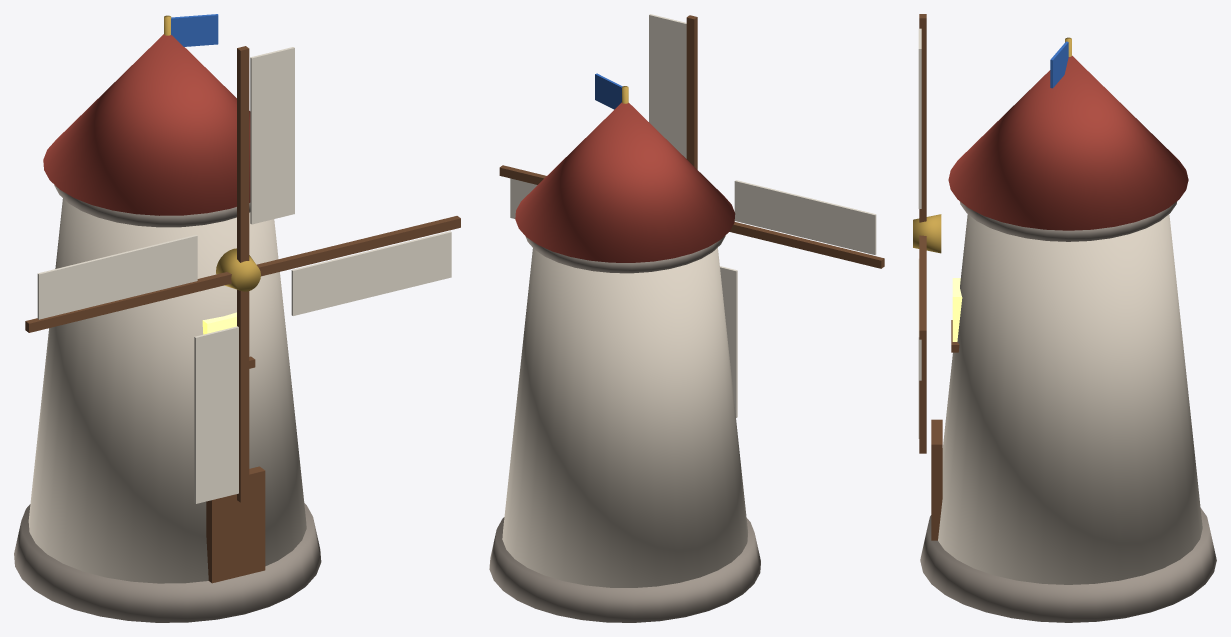
File: windmill.glb
3 views of the same model, side by side, from view 1: azimuth 30°, elevation 25°; view 2: azimuth 150°, elevation 25°; view 3: azimuth 270°, elevation 25° (orthographic). The views are drawn at different scales.
Parts seen in each view (by area): view 1: tower, roof, base, sail3, sail1, sail0, sail2, door, arm0, arm1, arm3, arm2 (+3 smaller); view 2: tower, roof, base, sail3, sail0, rim, arm3, arm0, sail2, flag, sail1; view 3: tower, roof, base, rim, door, arm0, hub-cap, arm1, arm2, sail0, flag, window.
Part boxes in pixels (x1,y1,x2,y2): tower: [28, 198, 306, 583]; roof: [43, 34, 250, 215]; base: [14, 503, 321, 622]; sail3: [37, 235, 197, 319]; sail1: [291, 231, 451, 315]; sail0: [250, 47, 294, 224]; sail2: [194, 326, 238, 503]; door: [206, 466, 265, 583]; arm0: [237, 46, 249, 262]; arm1: [257, 216, 460, 276]; arm3: [25, 272, 231, 332]; arm2: [237, 289, 249, 502]; tower: [502, 247, 747, 587]; roof: [515, 102, 735, 262]; base: [489, 517, 760, 622]; sail3: [734, 180, 876, 254]; sail0: [649, 14, 686, 158]; rim: [525, 235, 725, 273]; arm3: [729, 222, 884, 268]; arm0: [686, 15, 697, 169]; sail2: [720, 266, 737, 417]; flag: [595, 73, 622, 109]; sail1: [510, 178, 537, 218]; tower: [938, 214, 1202, 584]; roof: [948, 55, 1188, 230]; base: [920, 508, 1216, 622]; rim: [960, 201, 1177, 241]; door: [931, 419, 942, 540]; arm0: [919, 14, 926, 222]; hub-cap: [913, 214, 941, 253]; arm1: [919, 235, 926, 339]; arm2: [919, 339, 926, 453]; sail0: [918, 28, 921, 208]; flag: [1050, 41, 1068, 88]; window: [952, 278, 962, 341].
Size of the model in its own units: 3.4 by 4.25 by 2.15.
